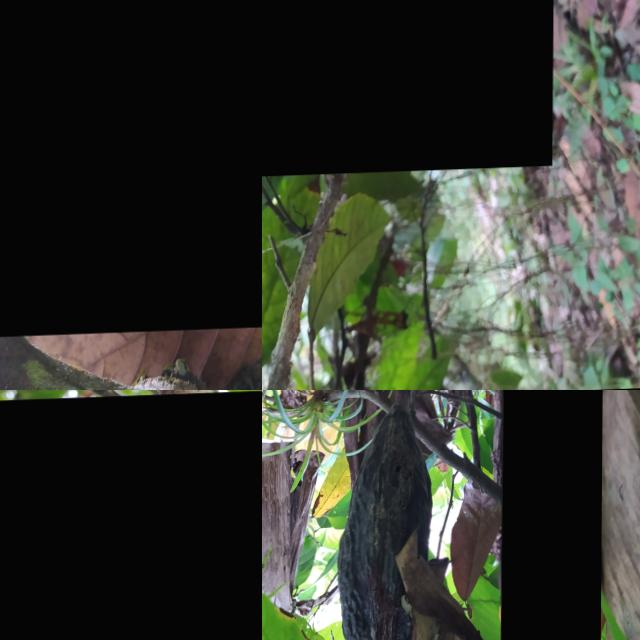Fitoftora: (0, 394, 262, 640), (501, 390, 603, 640), (335, 407, 433, 640)
Monilia: (0, 0, 262, 338), (262, 0, 554, 181)
